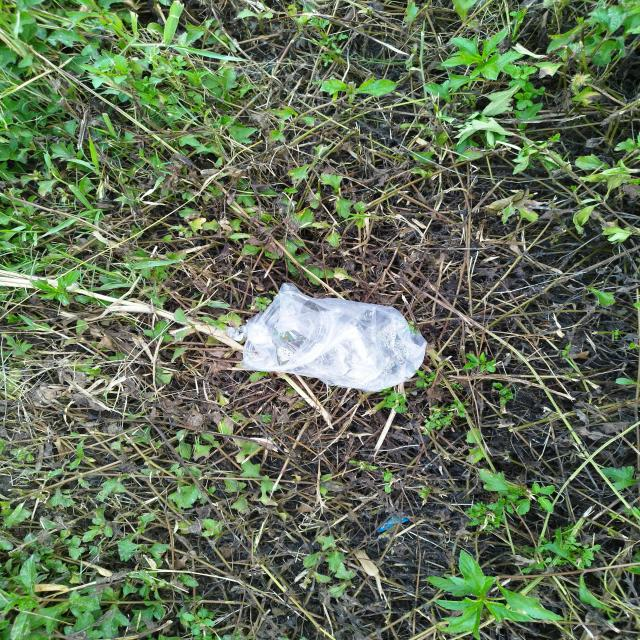bag: (240, 282, 428, 392)
